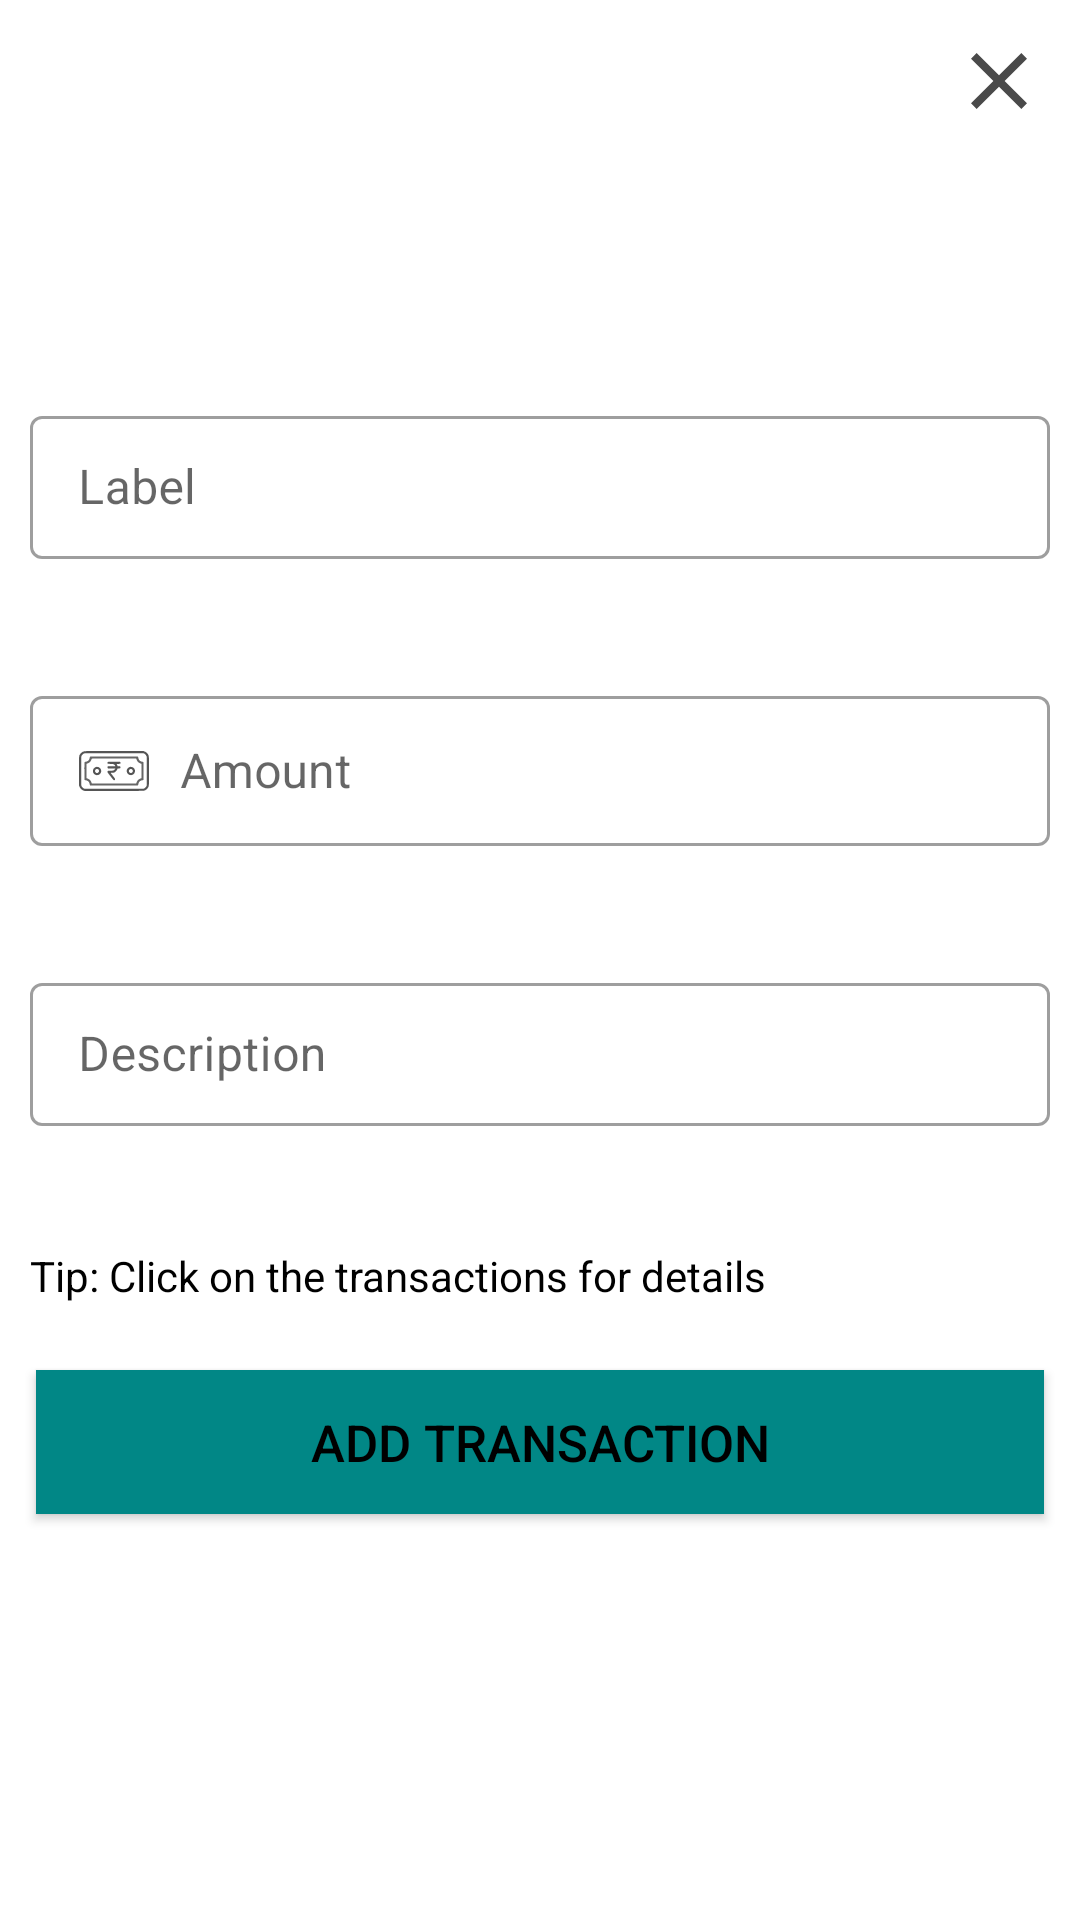

Icon click points for this 1080w x 1920h phone screenshot, format point (x, y):
close ripple: point (999, 81)
